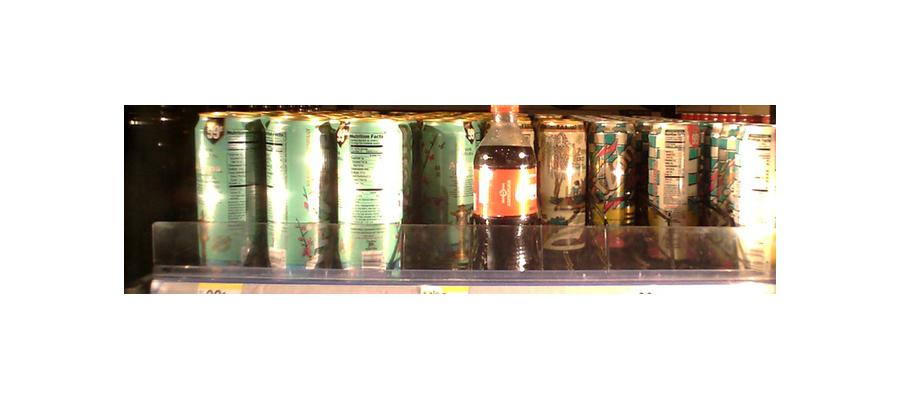bottle: (332, 120, 408, 277), (194, 110, 263, 268), (263, 114, 330, 272), (477, 107, 537, 272), (419, 116, 476, 270), (650, 121, 704, 263), (591, 114, 642, 260), (540, 115, 588, 267)
